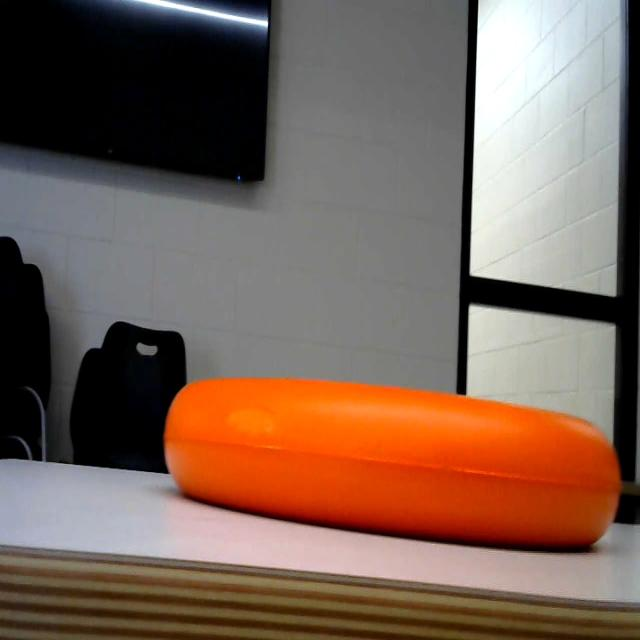note: (157, 371, 628, 554)
